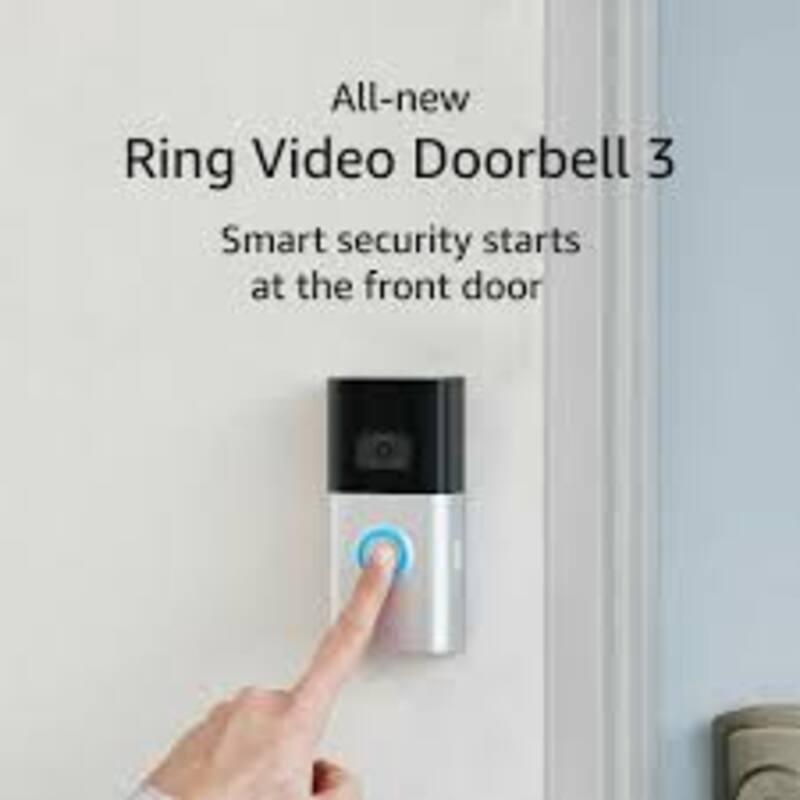doorbell: (321, 374, 472, 663)
